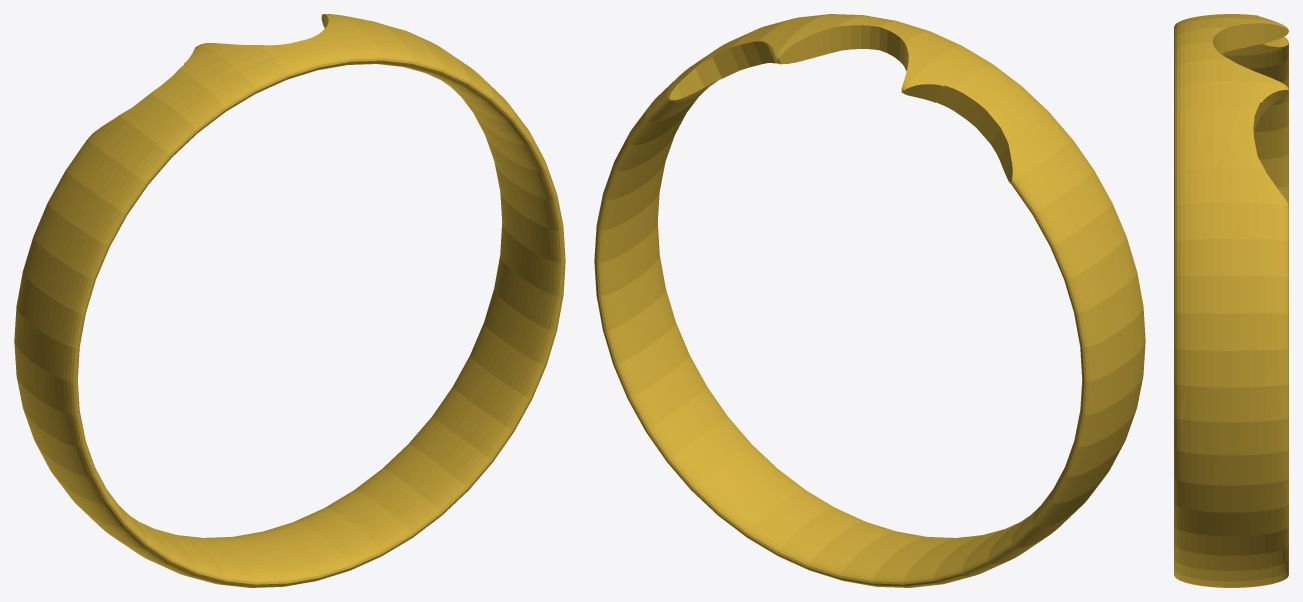
Rendered from band-4.0mm.glb.
3 renders of one model, left to right at view 1: azimuth 30°, elevation 25°; view 2: azimuth 150°, elevation 25°; view 3: azimuth 270°, elevation 25°, orthographic. The views are drawn at different scales.
Parts seen in each view (by area): view 1: band-4.0mm; view 2: band-4.0mm; view 3: band-4.0mm.
Boxes of the visible parts, left/top/right/bottom form: band-4.0mm: left=14, top=14, right=565, bottom=587; band-4.0mm: left=594, top=14, right=1145, bottom=587; band-4.0mm: left=1174, top=14, right=1288, bottom=587.
Bounding box in the file's own units: 20 × 19.98 × 4.
